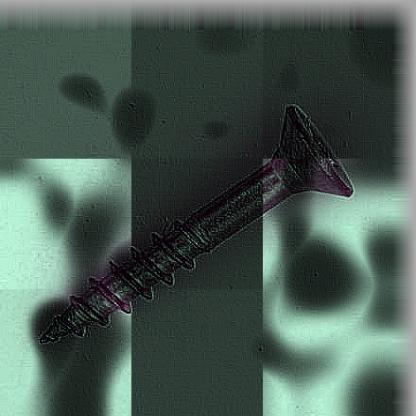metal: (37, 102, 353, 346)
